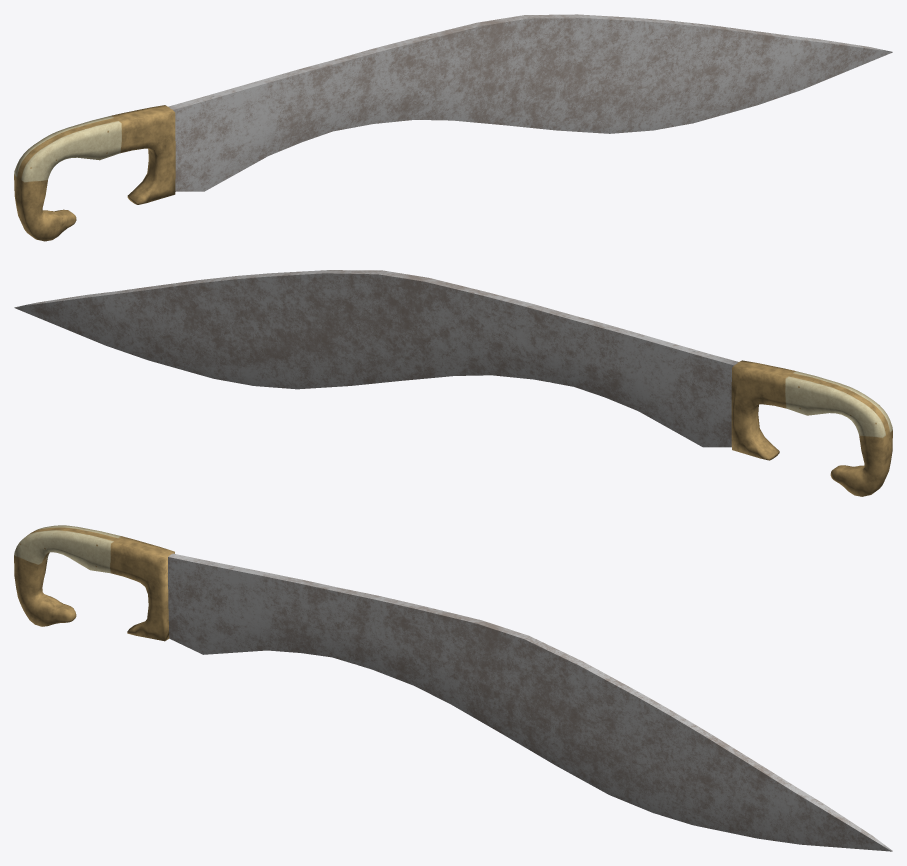
The model's file is sword.obj.
3 views of the same model, one above another, from view 1: azimuth 30°, elevation 25°; view 2: azimuth 150°, elevation 25°; view 3: azimuth 330°, elevation 25° (orthographic).
Visible parts, largest first — view 1: LP_2.002; view 2: LP_2.002; view 3: LP_2.002.
Part boxes in pixels (x1,y1,x2,y2): LP_2.002: (14, 14, 892, 241); LP_2.002: (14, 270, 892, 496); LP_2.002: (14, 525, 892, 851).
Size of the model in its own units: 0.6679 by 0.1102 by 0.0152.
